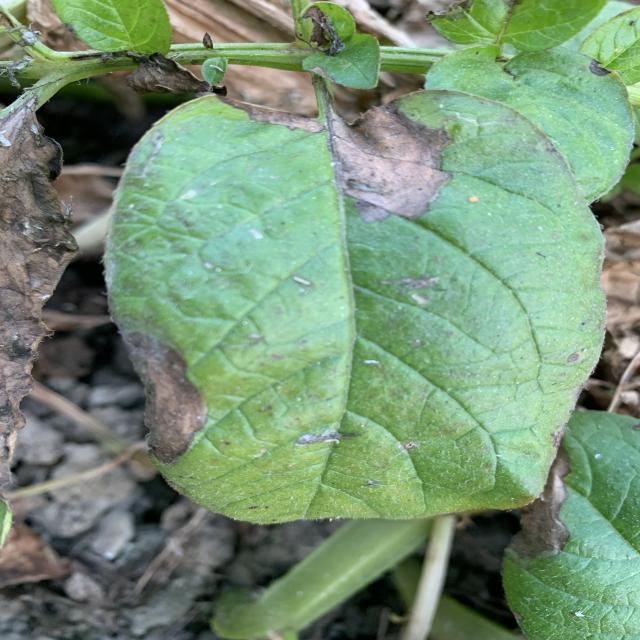lateblight: (332, 104, 452, 221), (123, 332, 207, 464), (508, 448, 570, 558), (220, 65, 317, 116), (218, 98, 325, 132)
